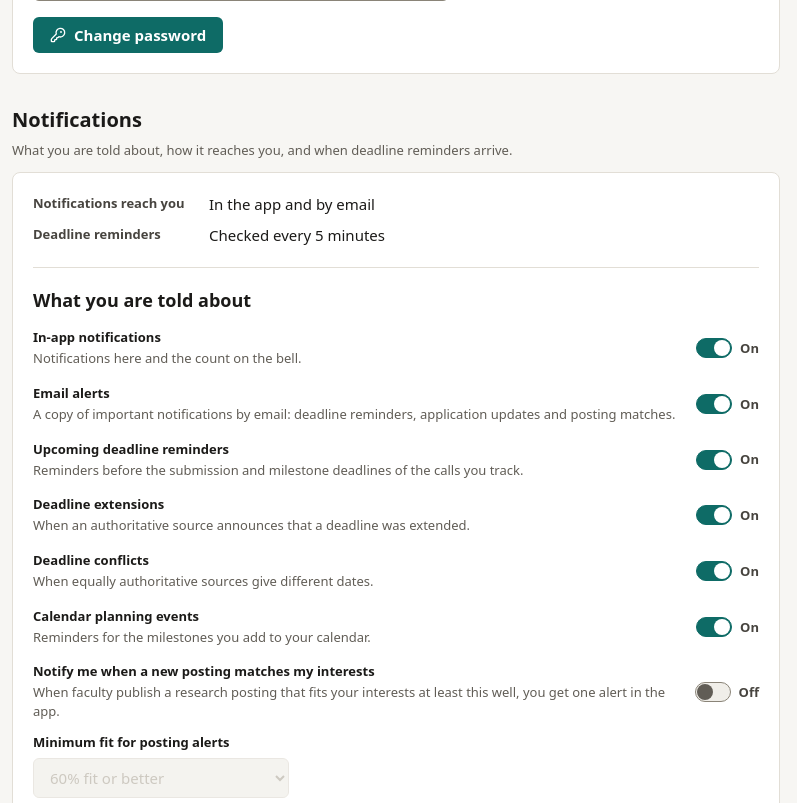
notification switches › puts a switch back and says why when the server refuses
(page scrolled)
Click the switch named "Email alerts".
click(728, 404)  # box [696,392,759,416]
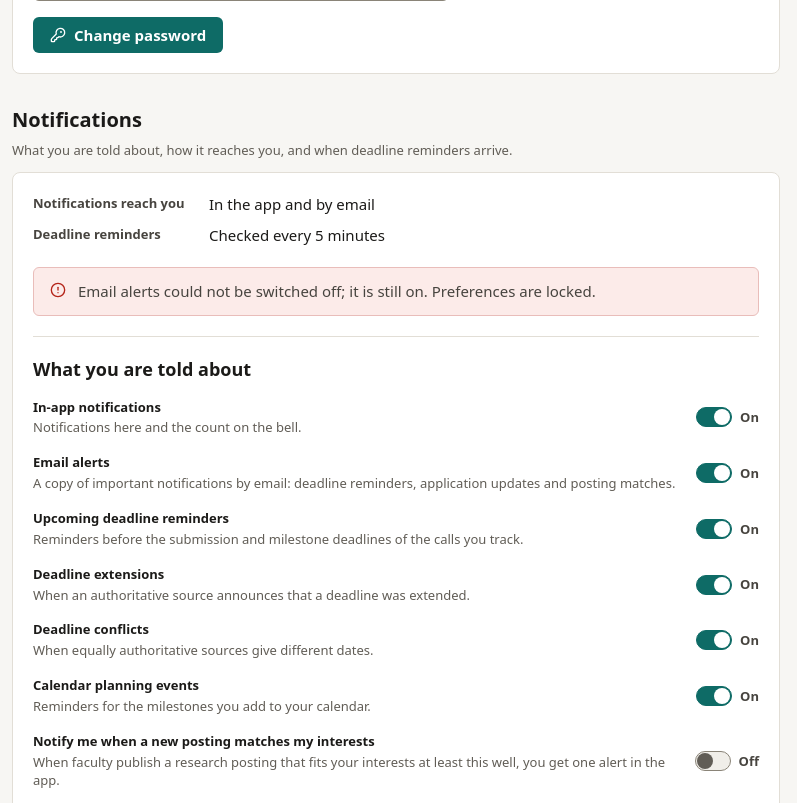
Expected: the switch named "Email alerts" is checked, [696,461,759,485]
Now the message reads "Email alerts could not be switched off; it is still on. Preferences are locked.", box [78,281,596,301]
